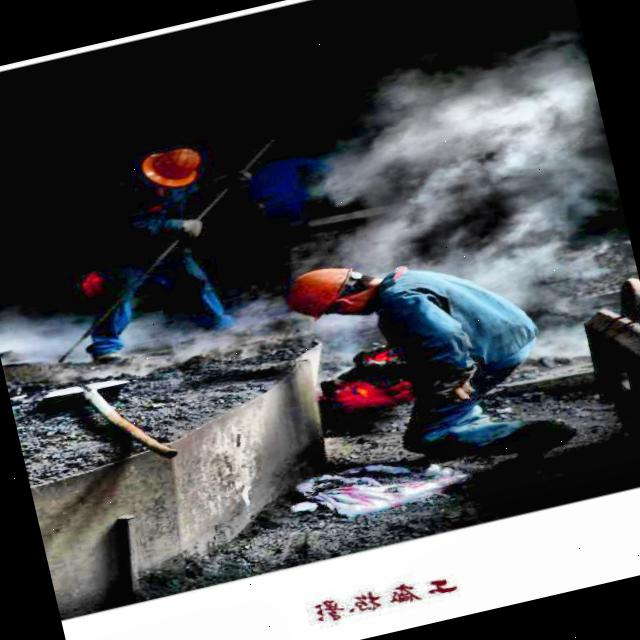helmet: (274, 253, 392, 334), (138, 142, 208, 199)
